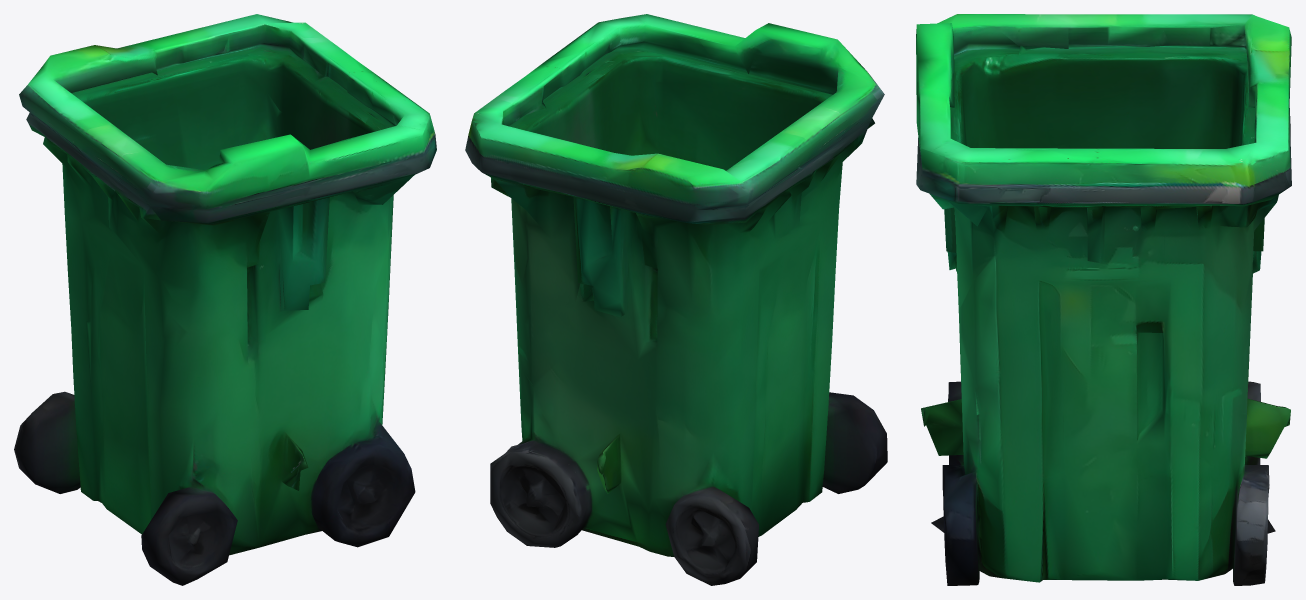
File: bin.glb
3 views of the same model, side by side, from view 1: azimuth 30°, elevation 25°; view 2: azimuth 150°, elevation 25°; view 3: azimuth 270°, elevation 25° (orthographic). The views are drawn at different scales.
Visible parts, largest first — view 1: tripo_node_1a0f71f6-a892-4f10-a5fd-9bb1b07bec70; view 2: tripo_node_1a0f71f6-a892-4f10-a5fd-9bb1b07bec70; view 3: tripo_node_1a0f71f6-a892-4f10-a5fd-9bb1b07bec70.
Part boxes in pixels (x1,y1,x2,y2): tripo_node_1a0f71f6-a892-4f10-a5fd-9bb1b07bec70: (14,14,436,585); tripo_node_1a0f71f6-a892-4f10-a5fd-9bb1b07bec70: (465,14,887,585); tripo_node_1a0f71f6-a892-4f10-a5fd-9bb1b07bec70: (916,14,1291,585).
Size of the model in its own units: 0.7025 by 1 by 0.7108.
1 material, 1 textured.
